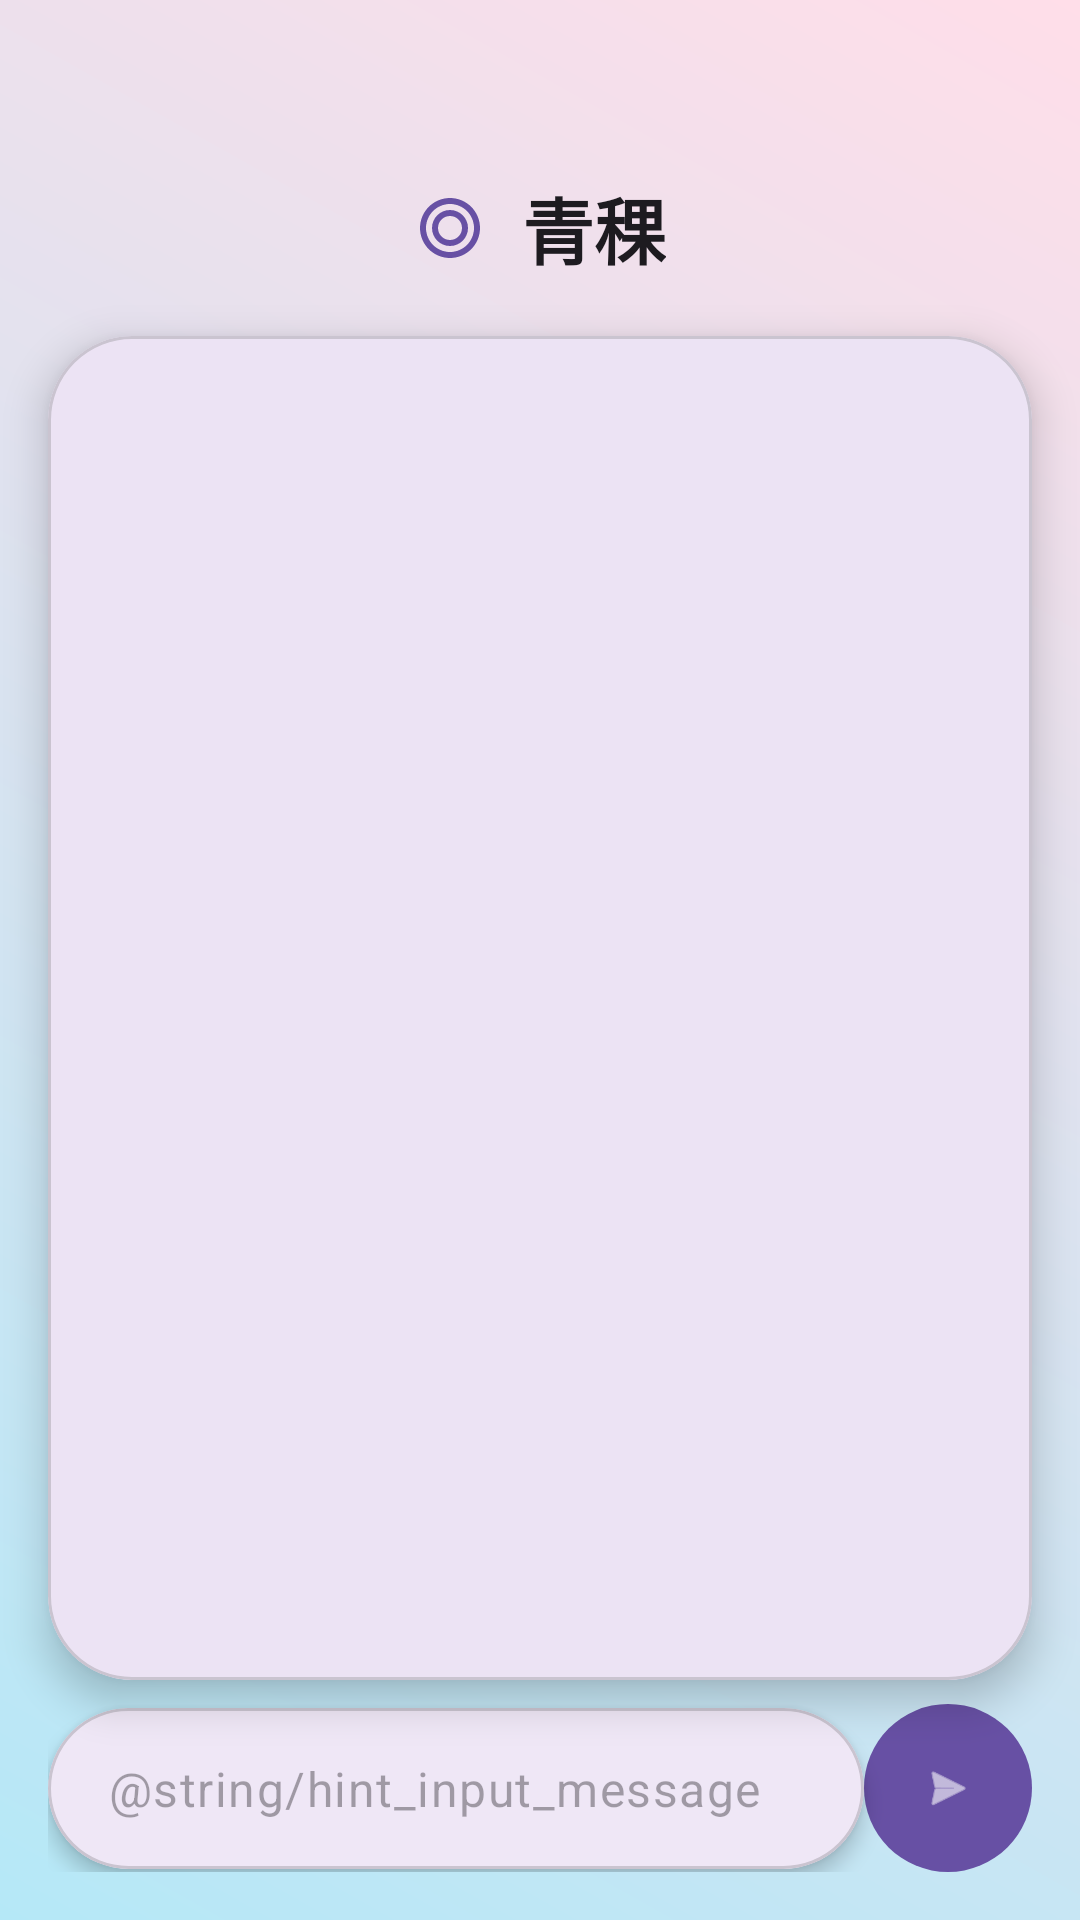

Icon click points for this 1080px x 1920px phone screenshot, format (x=x, y=y):
发送消息: (x=948, y=1788)
